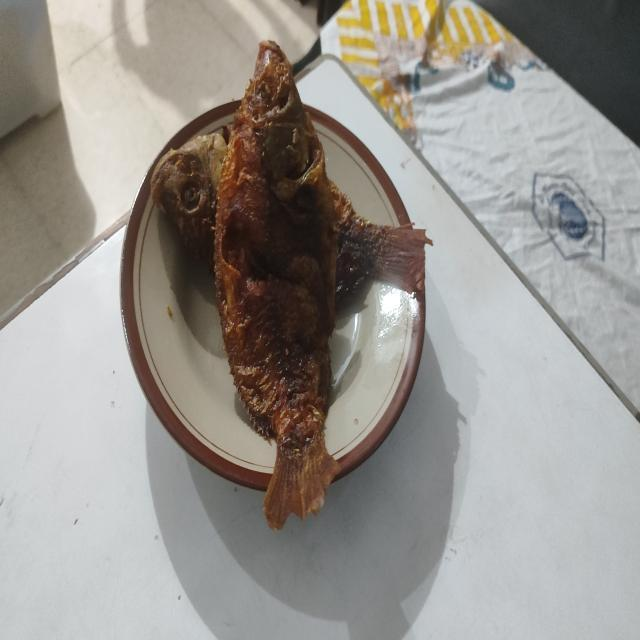ikan_mujair: (214, 41, 339, 529), (150, 123, 432, 313)
